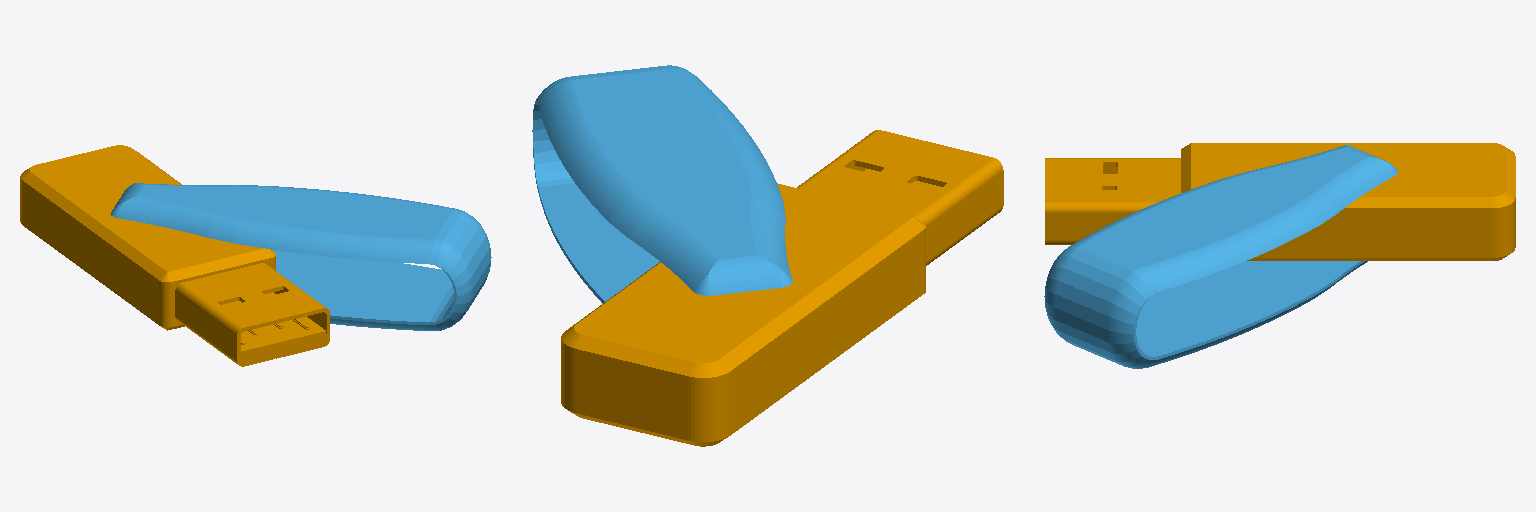
The robot description file, URDF, robot "USB_100109":
<?xml version="1.0"?>
<robot name="USB_100109">
  <link name="base_link">
    <inertial>
      <origin xyz="0 0 0" rpy="0 0 0"/>
      <mass value="1"/>
      <inertia ixx="0.001" ixy="0" ixz="0" iyy="0.001" iyz="0" izz="0.001"/>
    </inertial>
    <visual>
      <origin xyz="0 0 0" rpy="0 0 0"/>
      <geometry>
        <mesh filename="meshes/base_link.obj" scale="1 1 1"/>
      </geometry>
    </visual>
    <collision>
      <origin xyz="0 0 0" rpy="0 0 0"/>
      <geometry>
        <mesh filename="meshes/base_link.obj" scale="1 1 1"/>
      </geometry>
    </collision>
  </link>
  <link name="moving_link">
    <inertial>
      <origin xyz="0 0 0" rpy="0 0 0"/>
      <mass value="1"/>
      <inertia ixx="0.001" ixy="0" ixz="0" iyy="0.001" iyz="0" izz="0.001"/>
    </inertial>
    <visual>
      <origin xyz="0.240558504 -0.3870803676 0" rpy="0 0 0"/>
      <geometry>
        <mesh filename="meshes/moving_link.obj" scale="1 1 1"/>
      </geometry>
    </visual>
    <collision>
      <origin xyz="0.240558504 -0.3870803676 0" rpy="0 0 0"/>
      <geometry>
        <mesh filename="meshes/moving_link.obj" scale="1 1 1"/>
      </geometry>
    </collision>
  </link>
  <joint name="USB_100109_joint" type="revolute">
    <parent link="base_link"/>
    <child link="moving_link"/>
    <origin xyz="-0.240558504 0.3870803676 0" rpy="0 0 0"/>
    <axis xyz="0 0 1"/>
    <limit lower="-0.7853981634" upper="0" effort="100" velocity="10"/>
  </joint>
</robot>

--- What the picture shows (computed from the rendered views, not written in the file) ---
The picture shows the robot from 3 angles, left to right: view 1: azimuth 30°, elevation 25°; view 2: azimuth 150°, elevation 25°; view 3: azimuth 270°, elevation 25°; orthographic projection.
Robot: USB_100109 — 2 links, 1 joints (1 revolute); root link base_link; default pose: every joint at zero.
Visible links, largest first — view 1: moving_link, base_link; view 2: base_link, moving_link; view 3: moving_link, base_link.
Link boxes in pixels (<box>): moving_link: <box>111,183,491,330</box>; base_link: <box>20,145,329,366</box>; base_link: <box>561,130,1003,446</box>; moving_link: <box>532,65,792,303</box>; moving_link: <box>1044,145,1397,368</box>; base_link: <box>1045,143,1515,260</box>.
Size in the robot's own frame: 1.3 by 1.6 by 0.372 metres.
Meshes: 2 distinct files referenced, 2 mesh visuals loaded (2 OBJ).
